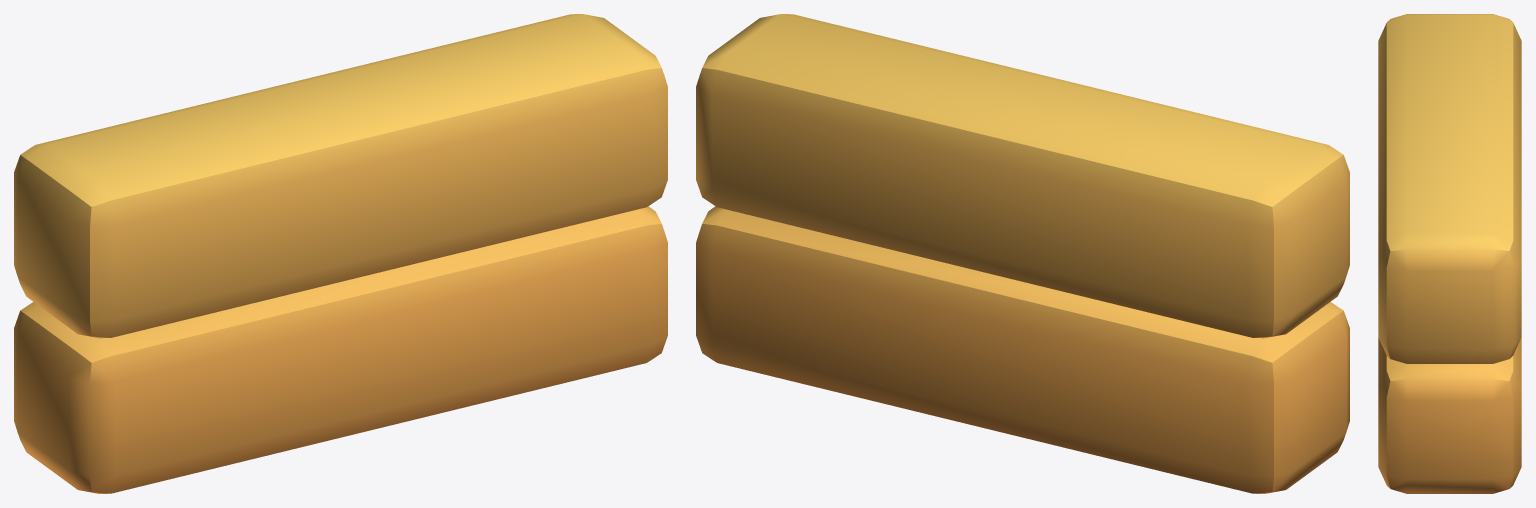
The model's file is barrier_4x1x2_yellow.glb.
3 views of the same model, side by side, from view 1: azimuth 30°, elevation 25°; view 2: azimuth 150°, elevation 25°; view 3: azimuth 270°, elevation 25° (orthographic). The views are drawn at different scales.
Parts seen in each view (by area): view 1: barrier_4x1x2_yellow; view 2: barrier_4x1x2_yellow; view 3: barrier_4x1x2_yellow.
Part boxes in pixels (bbox=[...]): barrier_4x1x2_yellow: bbox=[14, 14, 667, 493]; barrier_4x1x2_yellow: bbox=[696, 14, 1349, 493]; barrier_4x1x2_yellow: bbox=[1378, 14, 1521, 493].
Size of the model in its own units: 4 by 2 by 1.
Materials: 1 (1 with a texture image).
